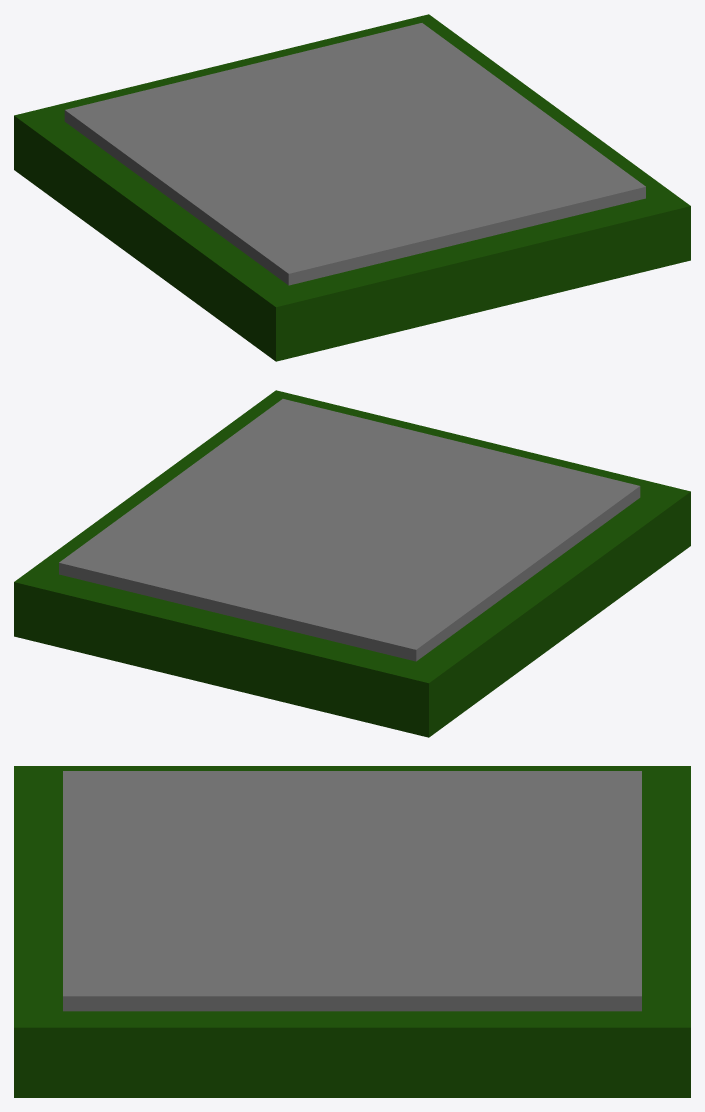
File: CPU.fbx
3 renders of one model, top to bottom at view 1: azimuth 30°, elevation 25°; view 2: azimuth 150°, elevation 25°; view 3: azimuth 270°, elevation 25°, orthographic. The views are drawn at different scales.
Visible parts, largest first — view 1: Cube; view 2: Cube; view 3: Cube.
Boxes of the visible parts, bbox=[...] form: Cube: bbox=[14, 14, 690, 361]; Cube: bbox=[14, 390, 690, 737]; Cube: bbox=[14, 766, 690, 1097].
Bounding box in the file's own units: 30.64 × 5.01 × 33.51.
